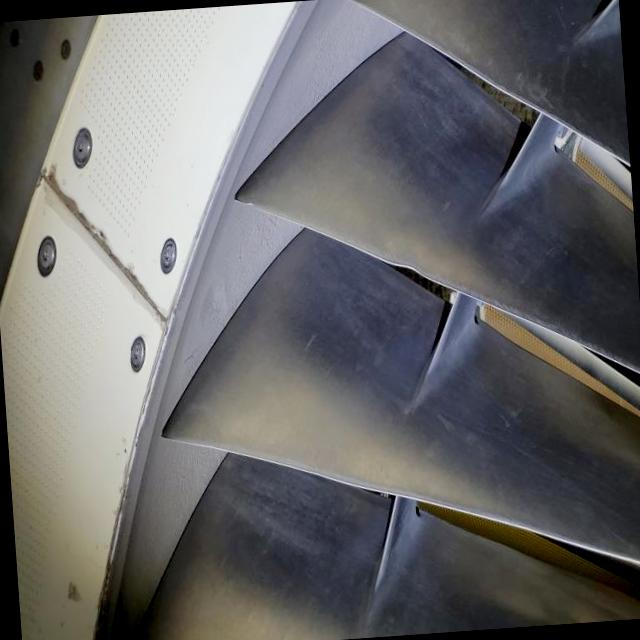dent: (380, 246, 437, 284), (238, 192, 261, 212)
